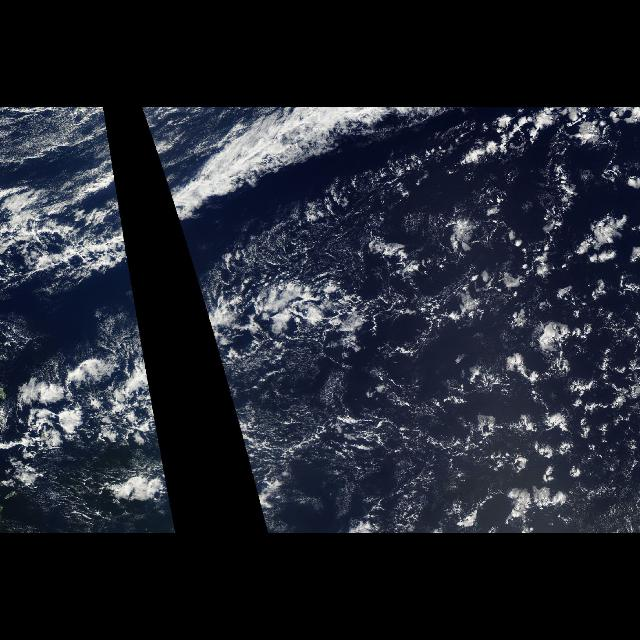Fish: (140, 108, 500, 456), (0, 108, 164, 456)
Flower: (458, 112, 638, 478)
